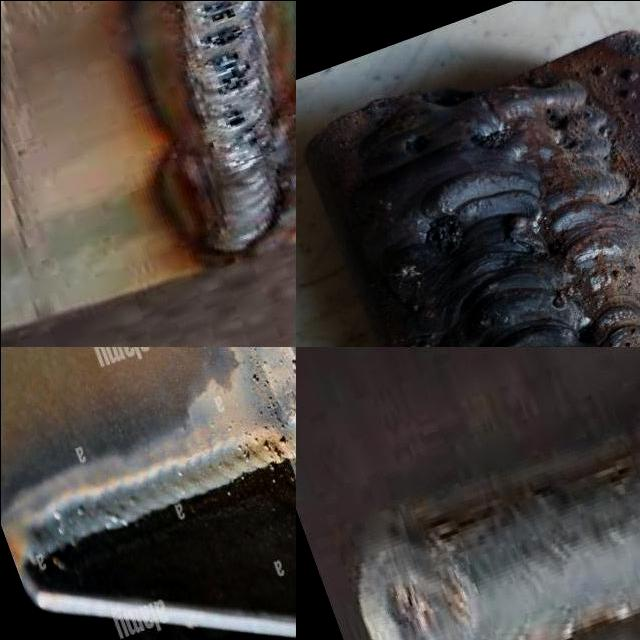defect: (195, 49, 256, 98), (234, 430, 294, 464), (419, 212, 466, 251), (541, 105, 581, 150), (197, 22, 249, 50), (465, 126, 515, 152), (194, 0, 240, 25), (258, 394, 288, 430), (212, 104, 249, 128), (401, 135, 434, 157), (568, 324, 598, 346), (248, 373, 259, 390), (259, 359, 268, 371), (289, 358, 295, 374), (262, 379, 269, 389)
